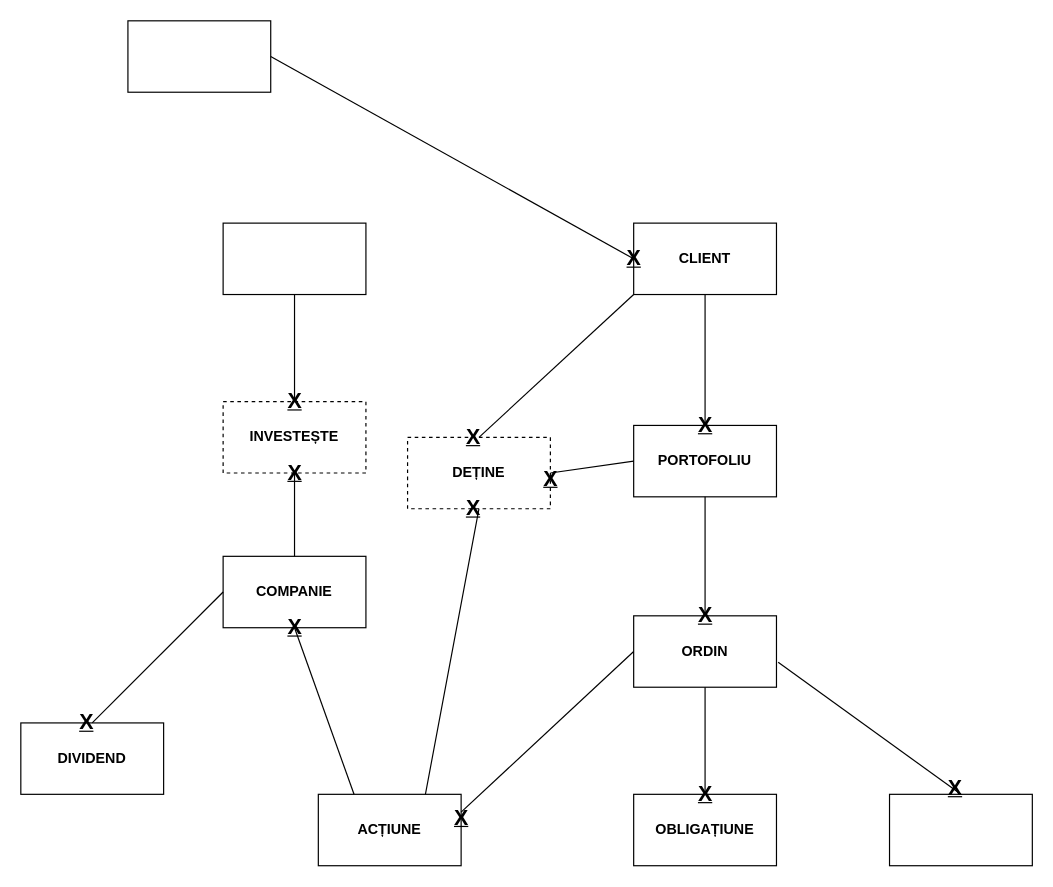
This 1053x887 diagram has some shape labels left out. Each missing label, with the centre of its shape:
ACȚIONAR: point (294, 258)
BROKER: point (199, 56)
ETF: point (960, 829)
